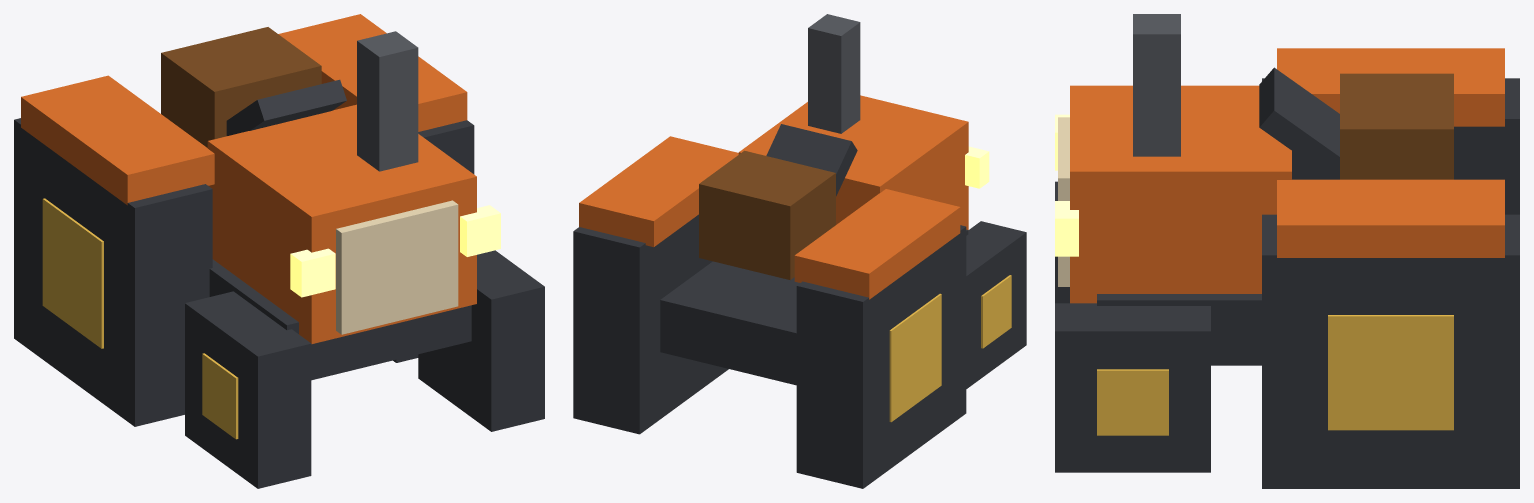
The model's file is machine-tractor.glb.
3 views of the same model, side by side, from view 1: azimuth 30°, elevation 25°; view 2: azimuth 150°, elevation 25°; view 3: azimuth 270°, elevation 25° (orthographic). The views are drawn at different scales.
Visible parts, largest first — view 1: Rear wheel, Hood, Front wheel, Fender, Front wheel.001, Grille, Seat, Stack, Chassis, Rear hub, Fender.001, Wheel steer (+4 smaller); view 2: Rear wheel, Rear wheel.001, Seat, Chassis, Hood, Fender, Fender.001, Front wheel, Stack, Rear hub, Wheel steer, Front hub (+1 smaller); view 3: Rear wheel.001, Hood, Front wheel.001, Fender.001, Rear hub.001, Seat, Fender, Stack, Wheel steer, Rear wheel, Chassis, Front hub.001 (+2 smaller).
Part boxes in pixels (bbox=[...]): Rear wheel: bbox=[14, 118, 212, 426]; Hood: bbox=[207, 104, 476, 343]; Front wheel: bbox=[185, 291, 311, 488]; Fender: bbox=[21, 75, 214, 205]; Front wheel.001: bbox=[418, 250, 544, 431]; Grille: bbox=[336, 200, 458, 334]; Seat: bbox=[161, 27, 321, 147]; Stack: bbox=[357, 31, 418, 171]; Chassis: bbox=[209, 259, 471, 380]; Rear hub: bbox=[42, 198, 103, 348]; Fender.001: bbox=[278, 14, 467, 131]; Wheel steer: bbox=[226, 79, 346, 135]; Rear wheel: bbox=[796, 225, 966, 488]; Rear wheel.001: bbox=[573, 214, 728, 434]; Seat: bbox=[699, 150, 835, 279]; Chassis: bbox=[660, 229, 968, 385]; Hood: bbox=[738, 95, 968, 229]; Fender: bbox=[794, 189, 960, 299]; Fender.001: bbox=[579, 136, 738, 247]; Front wheel: bbox=[966, 221, 1026, 388]; Stack: bbox=[808, 14, 860, 133]; Rear hub: bbox=[889, 293, 941, 422]; Wheel steer: bbox=[766, 124, 857, 196]; Front hub: bbox=[981, 275, 1011, 348]; Rear wheel.001: bbox=[1262, 214, 1519, 488]; Hood: bbox=[1070, 85, 1291, 303]; Front wheel.001: bbox=[1055, 303, 1210, 472]; Fender.001: bbox=[1277, 179, 1504, 257]; Rear hub.001: bbox=[1328, 315, 1453, 430]; Seat: bbox=[1340, 73, 1453, 179]; Fender: bbox=[1277, 48, 1504, 126]; Stack: bbox=[1133, 14, 1180, 156]; Wheel steer: bbox=[1259, 67, 1339, 179]; Rear wheel: bbox=[1262, 78, 1519, 214]; Chassis: bbox=[1097, 294, 1261, 365]; Front hub.001: bbox=[1097, 369, 1168, 435].
Bounding box in the file's own units: 1.41 × 1.45 × 1.55.
